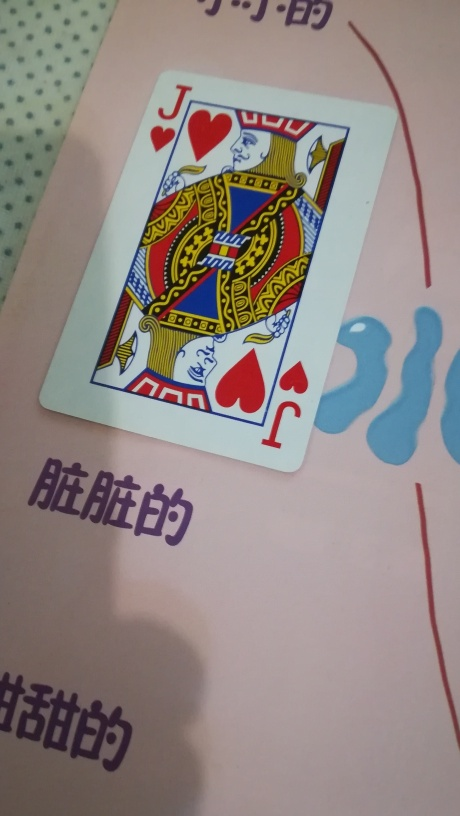hx j: (42, 65, 398, 479)
